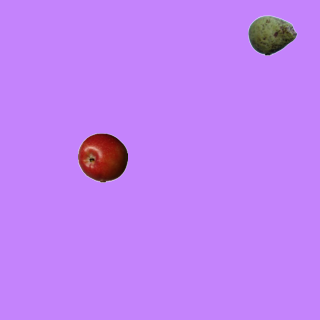Apple Braeburn: (77, 132, 127, 182)
Pear Stone: (247, 10, 297, 60)
